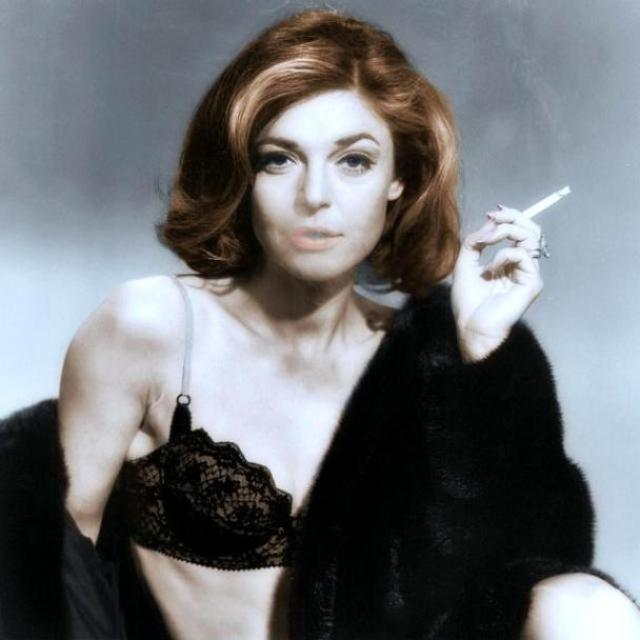rokok: (493, 182, 572, 240)
